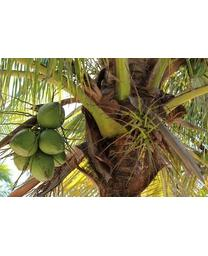coconut: (32, 98, 69, 130), (10, 123, 39, 159), (40, 127, 70, 156), (31, 154, 58, 180)
